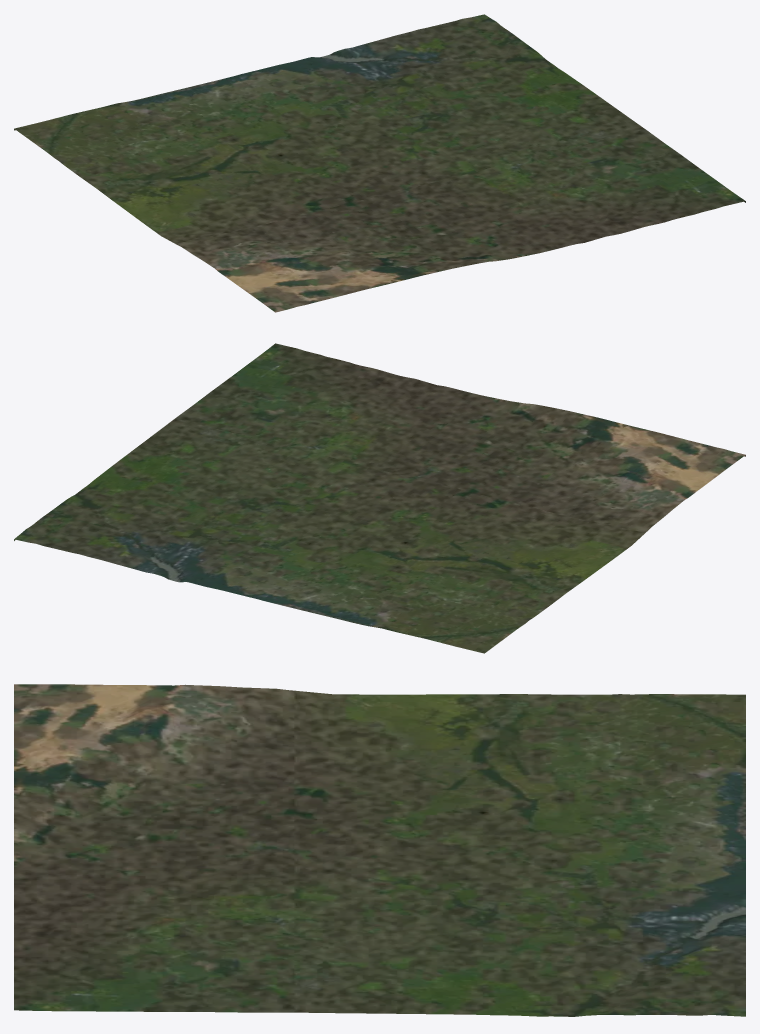
The picture shows the model from 3 angles, top to bottom: view 1: azimuth 30°, elevation 25°; view 2: azimuth 150°, elevation 25°; view 3: azimuth 270°, elevation 25°; orthographic projection. The views are drawn at different scales.
Bounding box in the file's own units: 250 × 7.15 × 241.
Materials: 1 (1 with a texture image).
